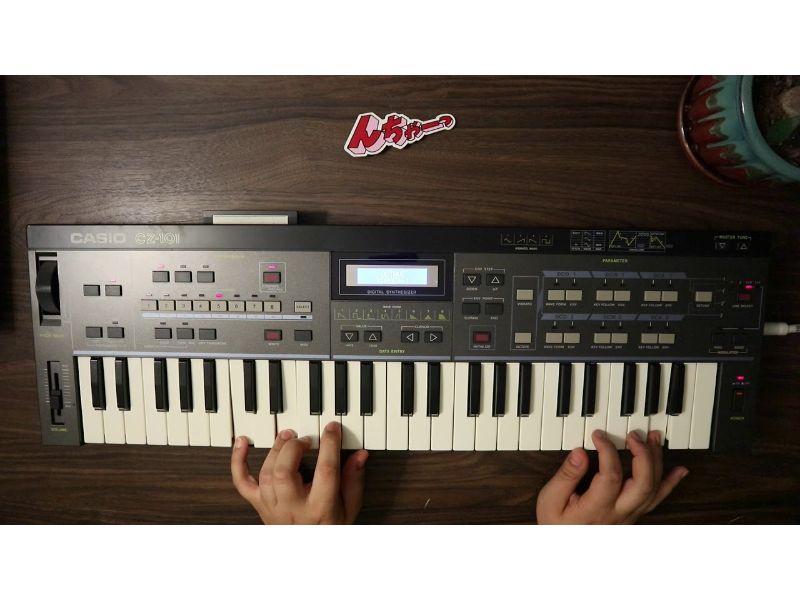synthesizer: (19, 213, 766, 462)
